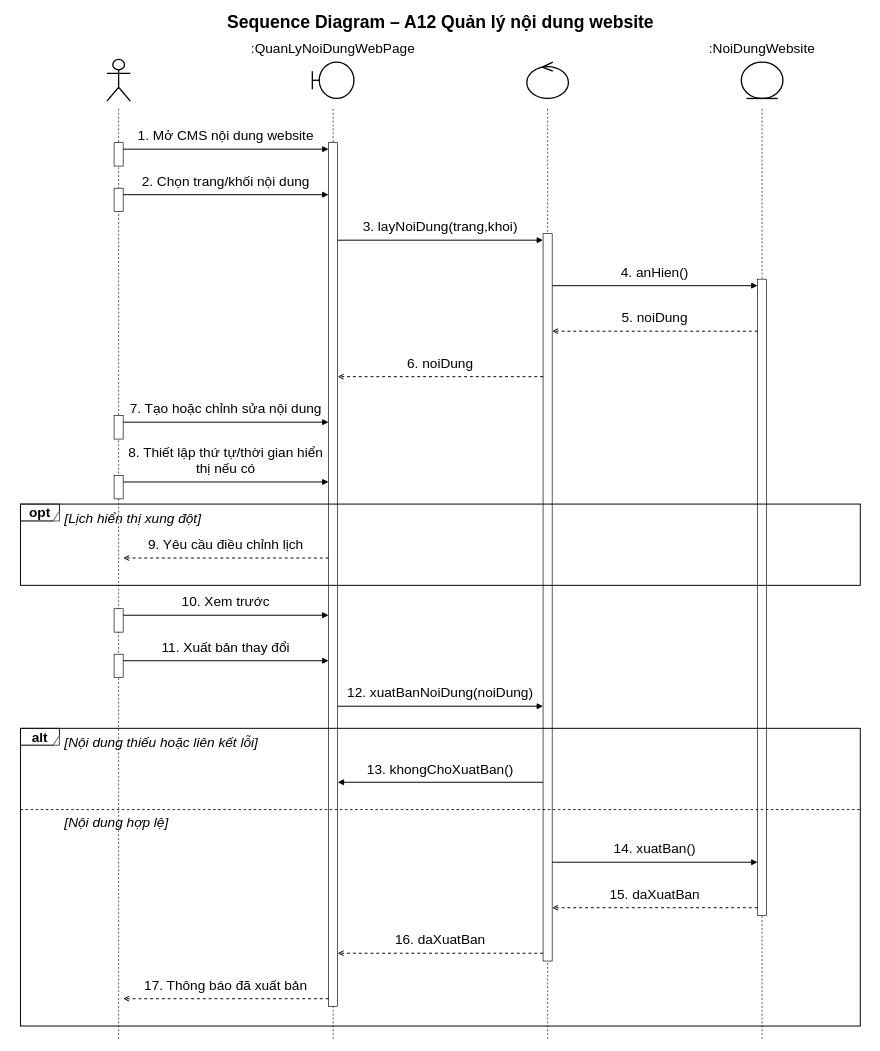
Some shapes in this 880 by 1051 pixel diagram are drawn without their labels. The box of each missing label's shape, as (x1, y1, x2, y2) in pixels:
:QuanLyNoiDungWebController: (526, 61, 569, 99)
:Quản trị viên: (106, 58, 131, 101)
